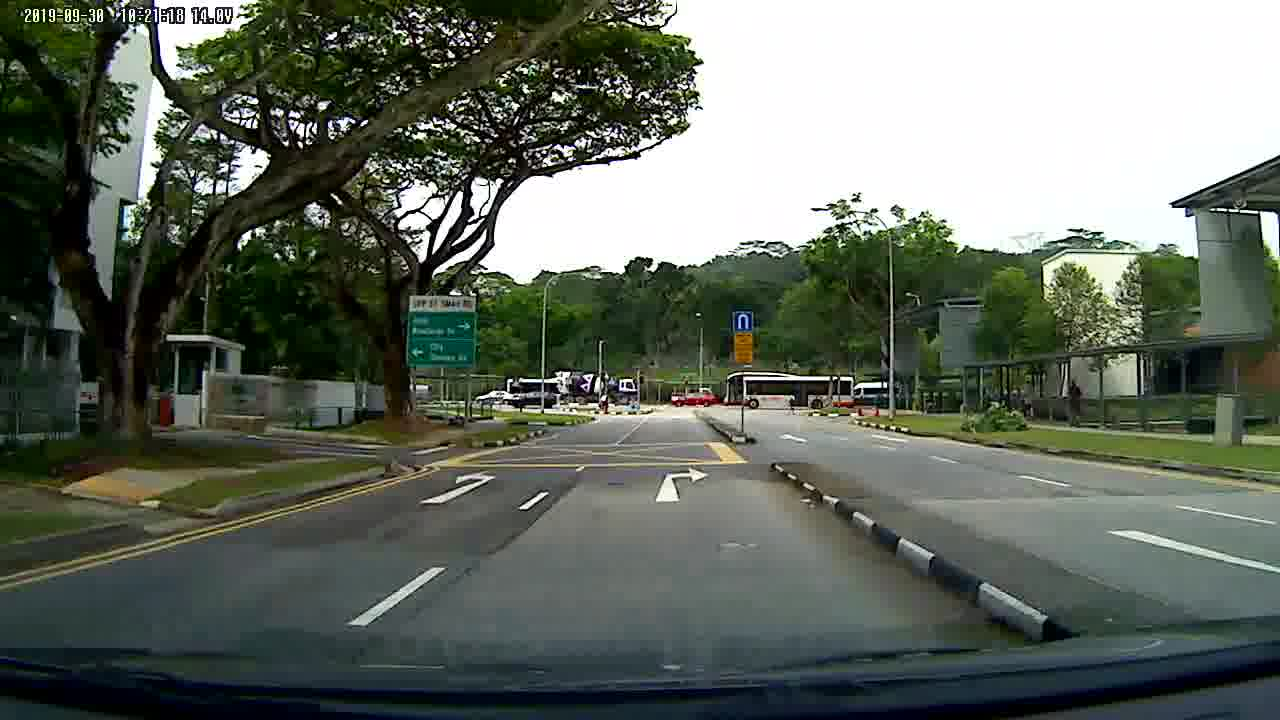bus: (724, 368, 857, 413)
car: (670, 390, 718, 407)
